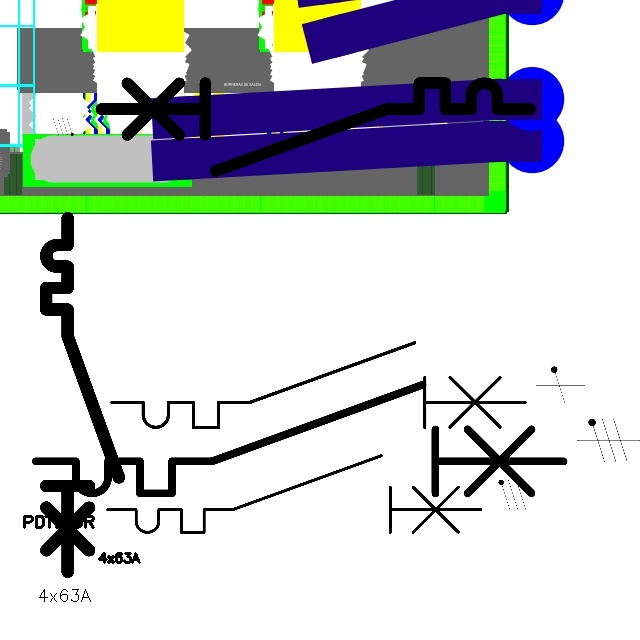interruptor_termomagnetico: (22, 371, 577, 507), (90, 72, 541, 182), (101, 332, 536, 438), (98, 446, 490, 542), (37, 209, 128, 581)
